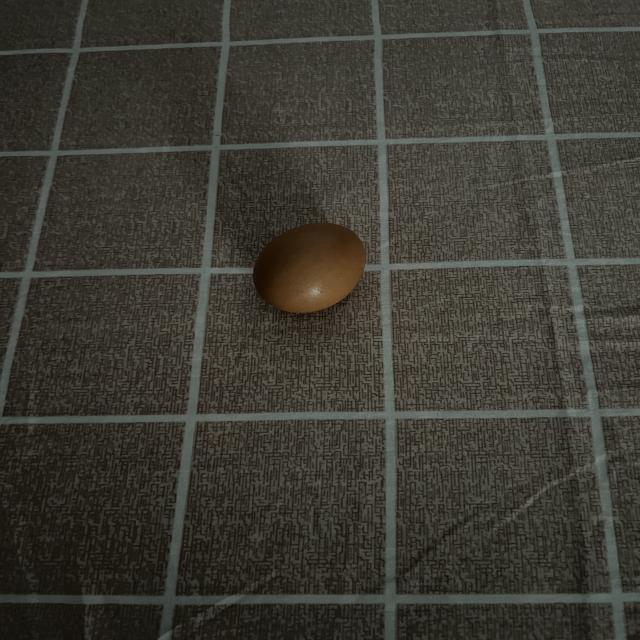Egg: (246, 220, 370, 317)
